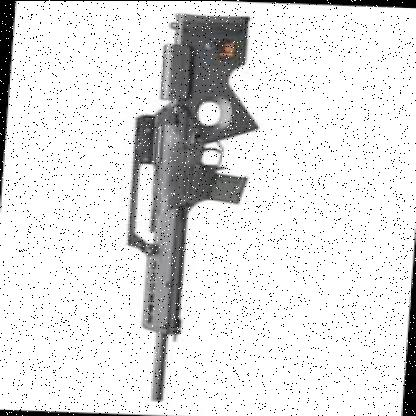rifle: (105, 8, 265, 408)
